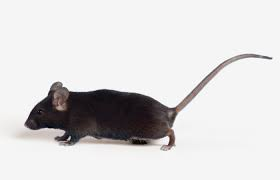mice: (24, 48, 274, 153)
